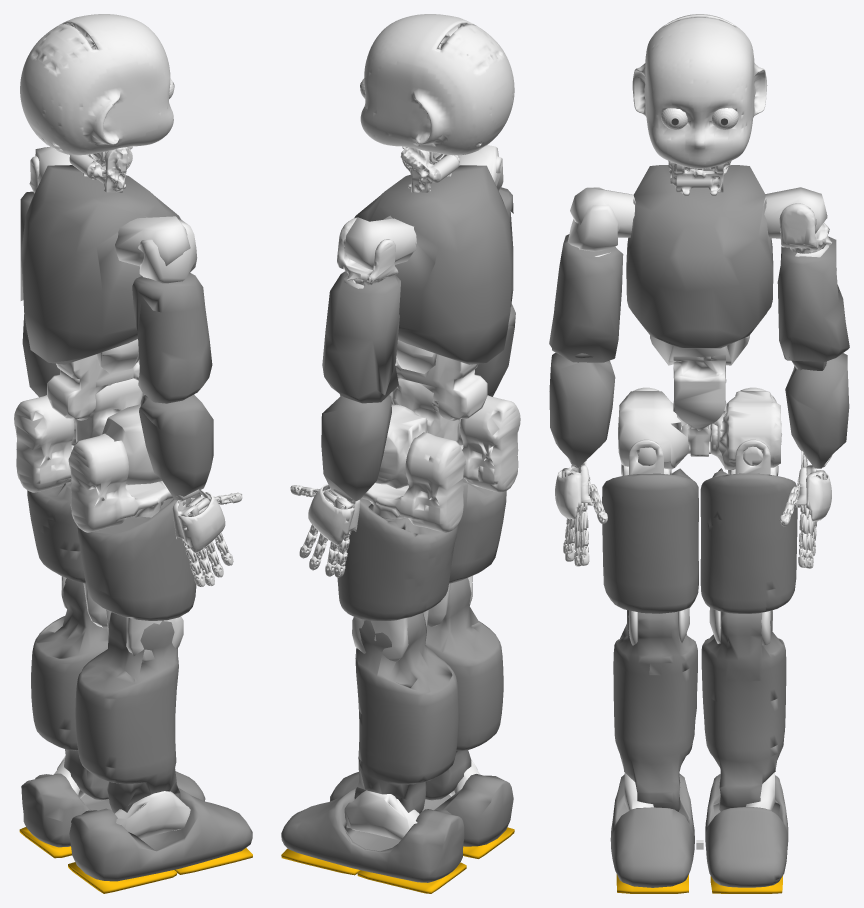
File: iCub.fbx
The picture shows the model from 3 angles, left to right: view 1: azimuth 30°, elevation 25°; view 2: azimuth 150°, elevation 25°; view 3: azimuth 270°, elevation 25°; orthographic projection. The views are drawn at different scales.
Parts seen in each view (by area): view 1: chest, head, r_lower_leg, r_hip_3, r_ankle_2, r_upper_arm, l_lower_leg, r_hip_2, r_forearm, l_hip_2, l_ankle_2, l_hip_3 (+17 smaller); view 2: chest, head, l_lower_leg, l_hip_3, l_ankle_2, r_lower_leg, l_upper_arm, l_hip_2, l_forearm, r_hip_2, r_ankle_2, r_hip_3 (+16 smaller); view 3: chest, head, r_lower_leg, l_lower_leg, r_hip_3, l_hip_3, r_upper_arm, l_upper_arm, l_ankle_2, r_ankle_2, r_forearm, l_forearm (+18 smaller).
Boxes of the visible parts, left/top/right/bottom form: chest: left=21, top=165, right=180, bottom=364; head: left=20, top=14, right=173, bottom=155; r_lower_leg: left=75, top=612, right=180, bottom=813; r_hip_3: left=77, top=494, right=200, bottom=620; r_ankle_2: left=69, top=788, right=252, bottom=881; r_upper_arm: left=132, top=273, right=212, bottom=403; l_lower_leg: left=31, top=578, right=108, bottom=800; r_hip_2: left=68, top=433, right=173, bottom=532; r_forearm: left=139, top=394, right=213, bottom=500; l_hip_2: left=14, top=395, right=74, bottom=492; l_ankle_2: left=21, top=771, right=205, bottom=847; l_hip_3: left=27, top=478, right=85, bottom=583; chest: left=354, top=165, right=513, bottom=364; head: left=360, top=14, right=514, bottom=155; l_lower_leg: left=354, top=613, right=459, bottom=813; l_hip_3: left=335, top=498, right=457, bottom=620; l_ankle_2: left=281, top=788, right=464, bottom=882; r_lower_leg: left=425, top=578, right=503, bottom=800; l_upper_arm: left=322, top=271, right=400, bottom=403; l_hip_2: left=361, top=432, right=465, bottom=532; l_forearm: left=321, top=395, right=391, bottom=501; r_hip_2: left=460, top=395, right=520, bottom=492; r_ankle_2: left=330, top=772, right=513, bottom=846; r_hip_3: left=449, top=478, right=506, bottom=583; chest: left=626, top=165, right=773, bottom=348; head: left=632, top=14, right=767, bottom=168; r_lower_leg: left=613, top=610, right=697, bottom=811; l_lower_leg: left=701, top=610, right=786, bottom=811; r_hip_3: left=602, top=468, right=698, bottom=613; l_hip_3: left=700, top=468, right=797, bottom=613; r_upper_arm: left=549, top=234, right=623, bottom=362; l_upper_arm: left=777, top=236, right=849, bottom=361; l_ankle_2: left=705, top=773, right=788, bottom=887; r_ankle_2: left=610, top=773, right=694, bottom=887; r_forearm: left=549, top=352, right=615, bottom=467; l_forearm: left=785, top=353, right=849, bottom=468.
Bounding box in the file's own units: 29.65 × 125 × 41.5.
